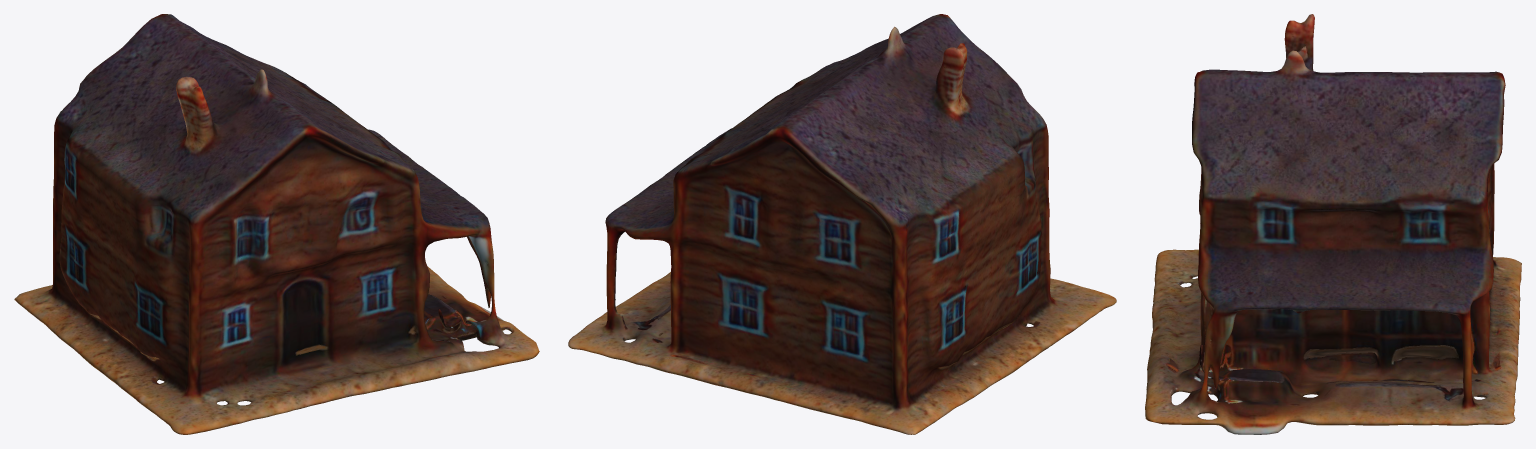
The model's file is 0fda57e74814_Create_a_cowboy_Hou.fbx.
3 views of the same model, side by side, from view 1: azimuth 30°, elevation 25°; view 2: azimuth 150°, elevation 25°; view 3: azimuth 270°, elevation 25° (orthographic). The views are drawn at different scales.
Visible parts, largest first — view 1: mesh; view 2: mesh; view 3: mesh.
Boxes of the visible parts, left/top/right/bottom form: mesh: left=14, top=14, right=539, bottom=434; mesh: left=568, top=14, right=1116, bottom=434; mesh: left=1145, top=14, right=1521, bottom=434.
Bounding box in the file's own units: 99.72 × 75.52 × 90.22.
